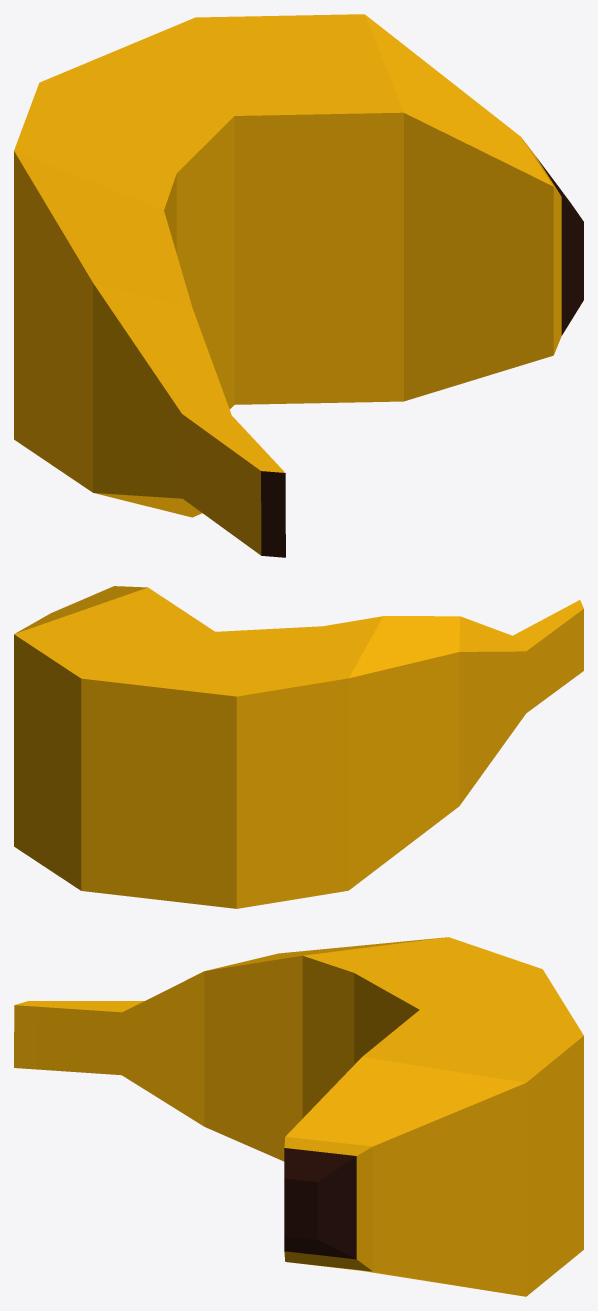
Rendered from Banana.fbx.
The picture shows the model from 3 angles, top to bottom: view 1: azimuth 30°, elevation 25°; view 2: azimuth 150°, elevation 25°; view 3: azimuth 270°, elevation 25°; orthographic projection. The views are drawn at different scales.
Parts seen in each view (by area): view 1: Banana; view 2: Banana; view 3: Banana.
Part boxes in pixels (box(x1,y1,x2,y2)): Banana: box(14, 14, 583, 557); Banana: box(14, 586, 583, 908); Banana: box(14, 937, 583, 1296).
Bounding box in the file's own units: 3.66 × 2 × 4.83.
